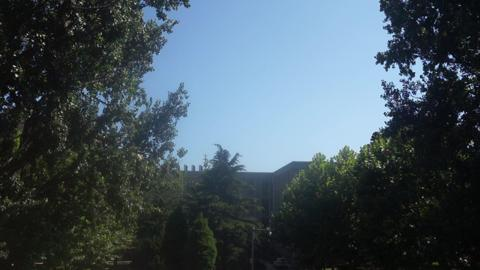UAV: (399, 160, 412, 166)
